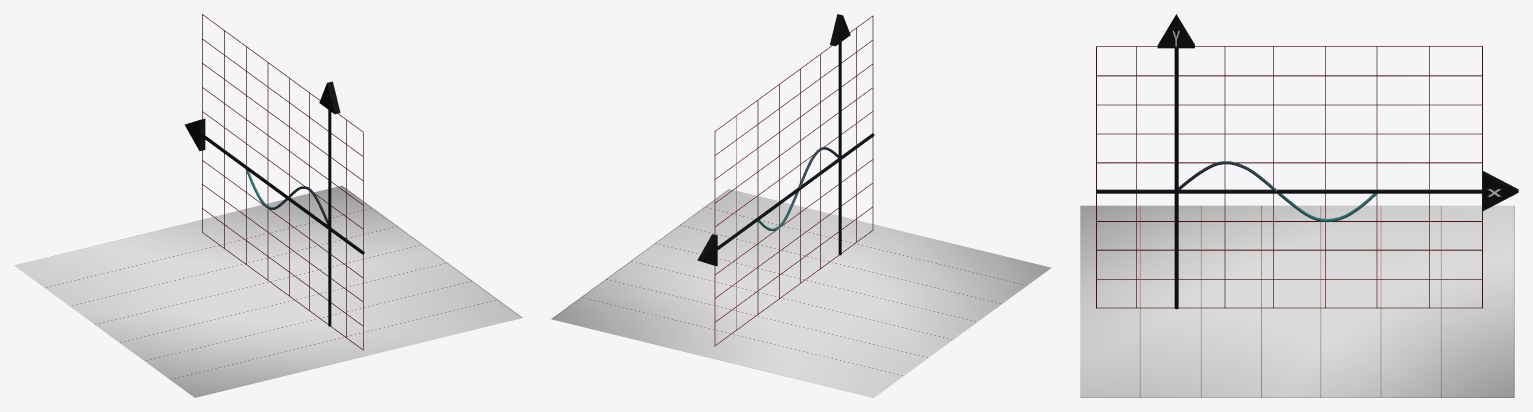
File: y=sin(x+k) menor.fbx
3 views of the same model, side by side, from view 1: azimuth 30°, elevation 25°; view 2: azimuth 150°, elevation 25°; view 3: azimuth 270°, elevation 25° (orthographic). The views are drawn at different scales.
Visible parts, largest first — view 1: senoidal:plane:pPlane1, senoidal:pCylinder37, senoidal:pCylinder36; view 2: senoidal:plane:pPlane1, senoidal:pCylinder37, senoidal:pCylinder36; view 3: senoidal:plane:pPlane1, senoidal:pCylinder36, senoidal:pCylinder37, senoidal:nueva_flecha_x:polySurface1, senoidal:senoidal1:Mesh, pCylinder3, senoidal:pCylinder5, senoidal:pCylinder13, senoidal:pCylinder3, senoidal:pCylinder17, senoidal:Nueva_flecha_y:polySurface1, senoidal:pCylinder7 (+2 smaller).
Part boxes in pixels (x1=…): senoidal:plane:pPlane1: x1=14, y1=185, x2=522, y2=397; senoidal:pCylinder37: x1=328, y1=110, x2=331, y2=326; senoidal:pCylinder36: x1=201, y1=134, x2=364, y2=254; senoidal:plane:pPlane1: x1=551, y1=189, x2=1051, y2=397; senoidal:pCylinder37: x1=838, y1=42, x2=841, y2=255; senoidal:pCylinder36: x1=717, y1=133, x2=874, y2=249; senoidal:plane:pPlane1: x1=1080, y1=205, x2=1514, y2=397; senoidal:pCylinder36: x1=1096, y1=189, x2=1482, y2=193; senoidal:pCylinder37: x1=1174, y1=48, x2=1178, y2=309; senoidal:nueva_flecha_x:polySurface1: x1=1482, y1=171, x2=1518, y2=210; senoidal:senoidal1:Mesh: x1=1177, y1=161, x2=1377, y2=222; pCylinder3: x1=1097, y1=75, x2=1482, y2=76; senoidal:pCylinder5: x1=1097, y1=133, x2=1482, y2=134; senoidal:pCylinder13: x1=1096, y1=249, x2=1482, y2=250; senoidal:pCylinder3: x1=1097, y1=104, x2=1482, y2=105; senoidal:pCylinder17: x1=1097, y1=307, x2=1482, y2=308; senoidal:Nueva_flecha_y:polySurface1: x1=1157, y1=14, x2=1194, y2=48; senoidal:pCylinder7: x1=1097, y1=162, x2=1482, y2=163.
Bounding box in the file's own units: 56.75 × 44.29 × 54.69.
